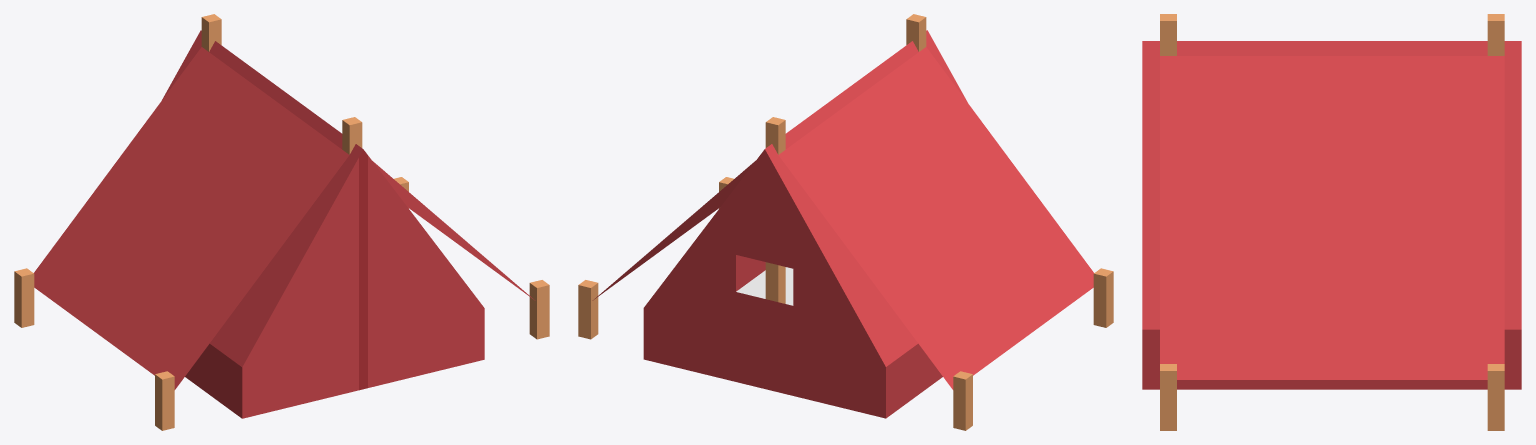
The model's file is tent_detailedClosed.fbx.
3 renders of one model, left to right at view 1: azimuth 30°, elevation 25°; view 2: azimuth 150°, elevation 25°; view 3: azimuth 270°, elevation 25°, orthographic. The views are drawn at different scales.
Visible parts, largest first — view 1: tent_detailedClosed; view 2: tent_detailedClosed; view 3: tent_detailedClosed.
Part boxes in pixels (x1,y1,x2,y2): tent_detailedClosed: (14,14,549,430); tent_detailedClosed: (578,14,1113,430); tent_detailedClosed: (1142,14,1521,430).
Size of the model in its own units: 8.75 by 5.61 by 6.36.
